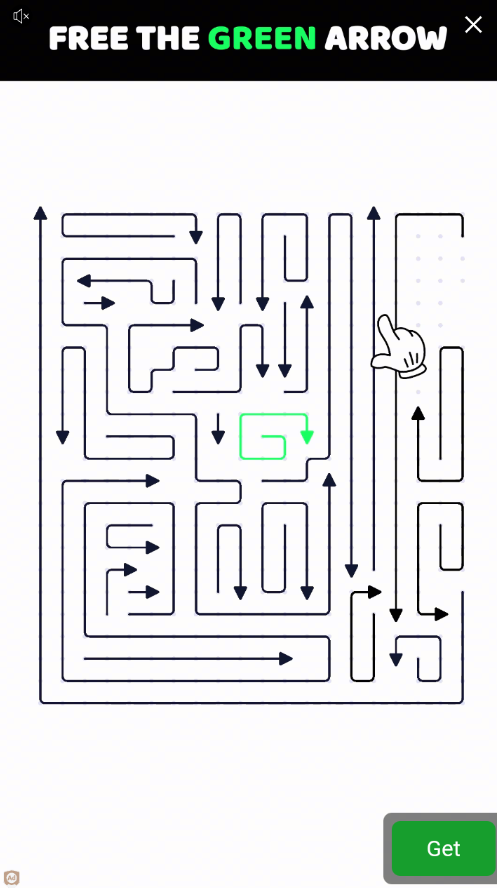close_button: (461, 10, 486, 39)
glosnik: (11, 5, 30, 24)
